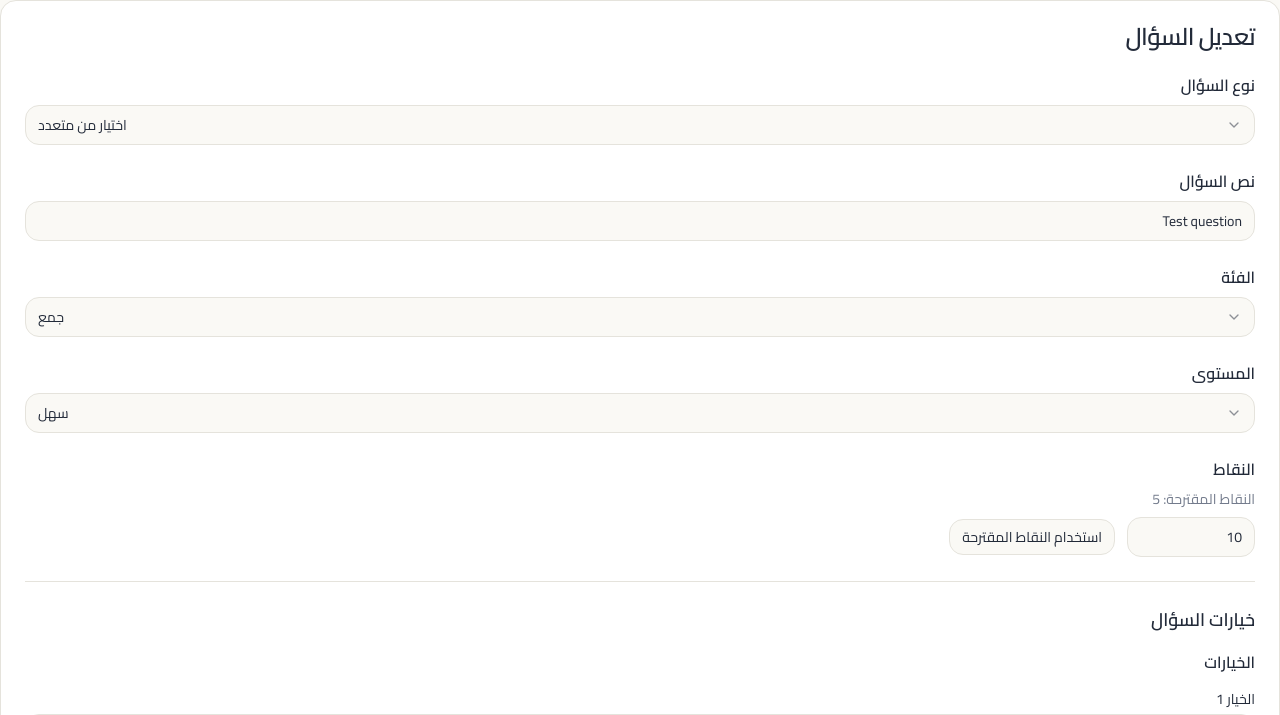
Test: QuestionFormContainer › Points System › resets to suggested points when reset button is clicked
Expected: the number field labelled "النقاط" holds "10", [1127,517,1255,557]
Click reset button
Click the button "استخدام النقاط المقترحة".
click(1032, 537)  # box [949,519,1115,555]
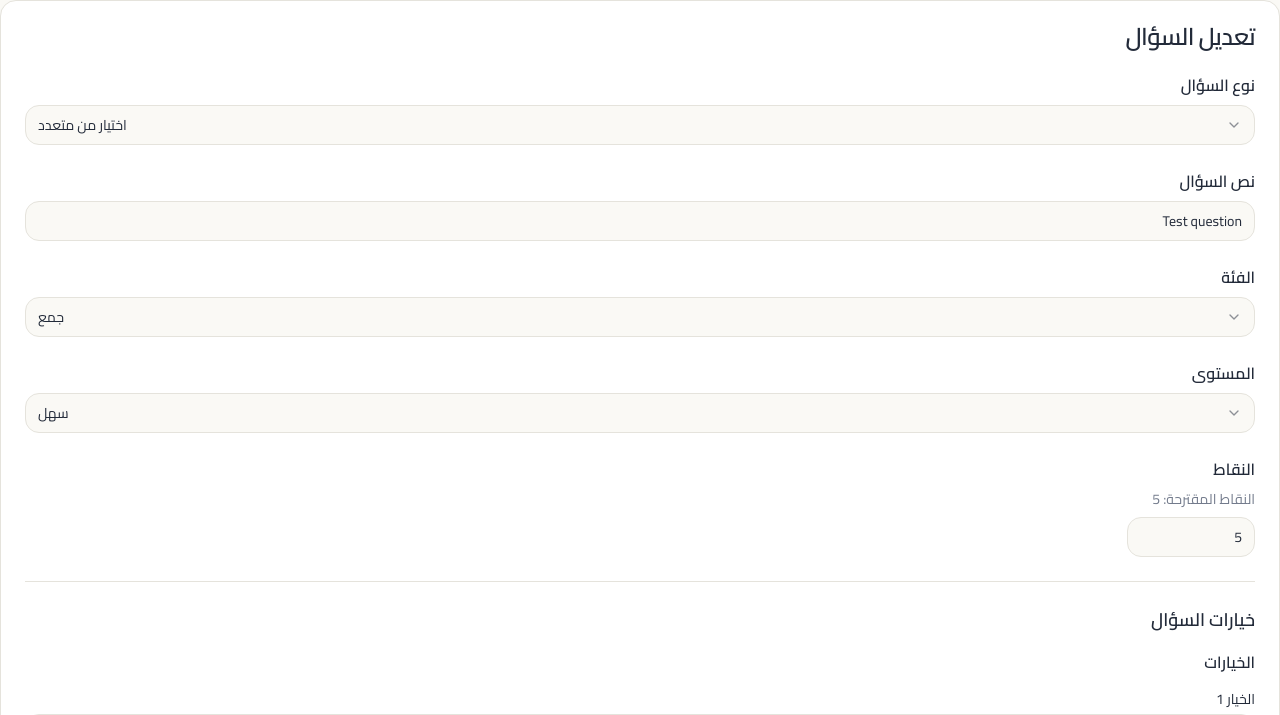
Expected: the number field labelled "النقاط" holds "5", [1127,517,1255,557]
